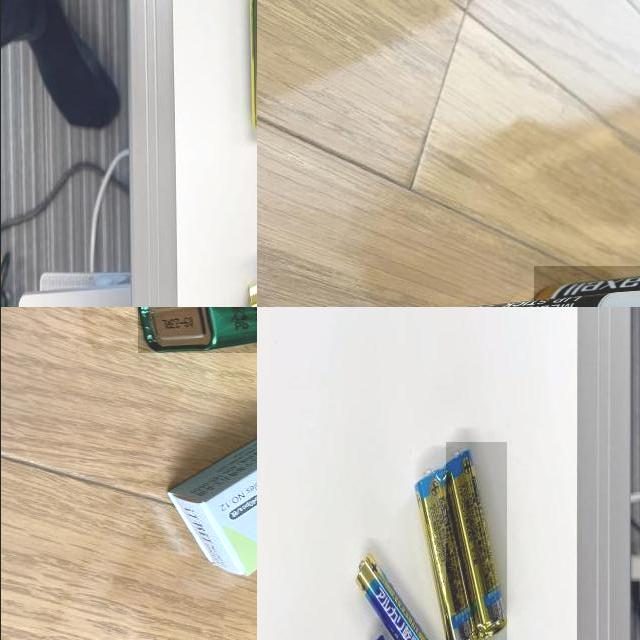9V: (137, 307, 256, 353)
